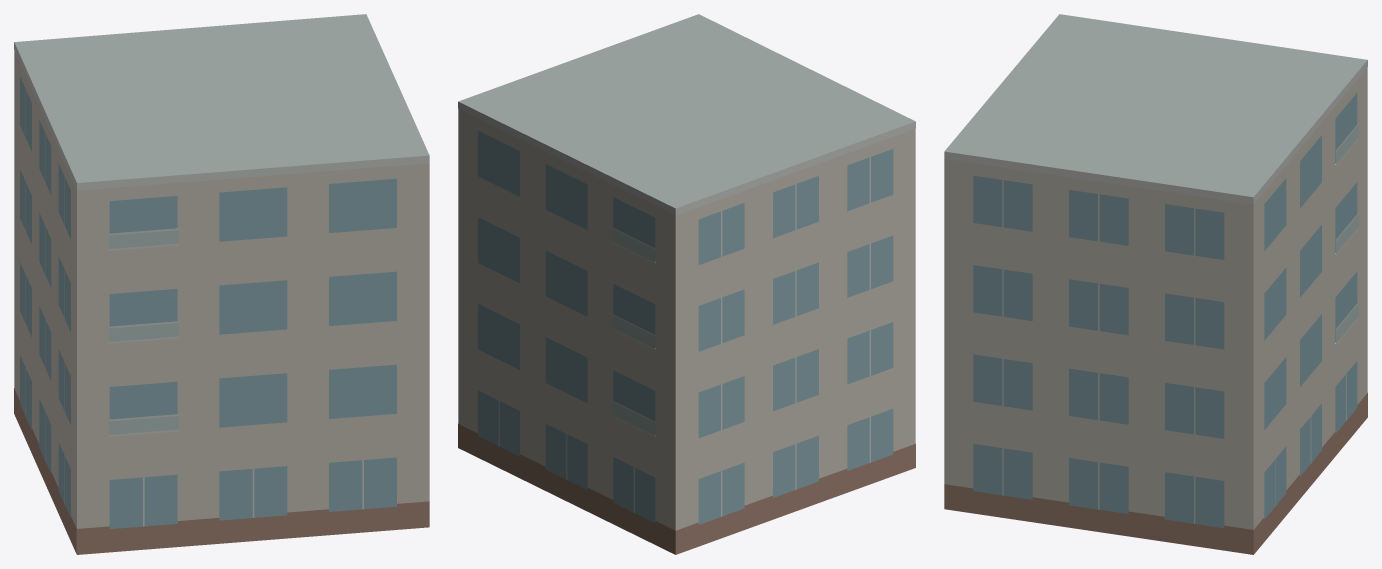
The model's file is survey-upis-32705370.glb.
3 views of the same model, side by side, from view 1: azimuth 30°, elevation 25°; view 2: azimuth 150°, elevation 25°; view 3: azimuth 270°, elevation 25° (orthographic). The views are drawn at different scales.
Visible parts, largest first — view 1: survey-upis-32705370.tmp; view 2: survey-upis-32705370.tmp; view 3: survey-upis-32705370.tmp.
Part boxes in pixels (x1,y1,x2,y2): survey-upis-32705370.tmp: (14,14,429,554); survey-upis-32705370.tmp: (458,14,915,554); survey-upis-32705370.tmp: (944,14,1367,554).
Size of the model in its own units: 13.08 by 11.9 by 12.78.
